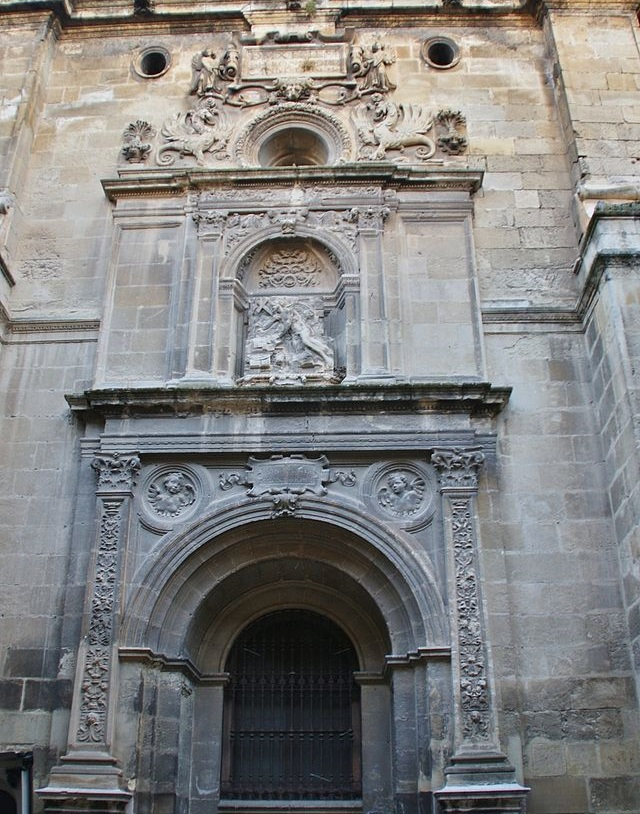arco-medio-punto: (134, 504, 440, 666), (229, 229, 354, 292)
ojo-de-buey: (248, 110, 337, 167), (130, 40, 175, 81), (420, 32, 464, 71)
